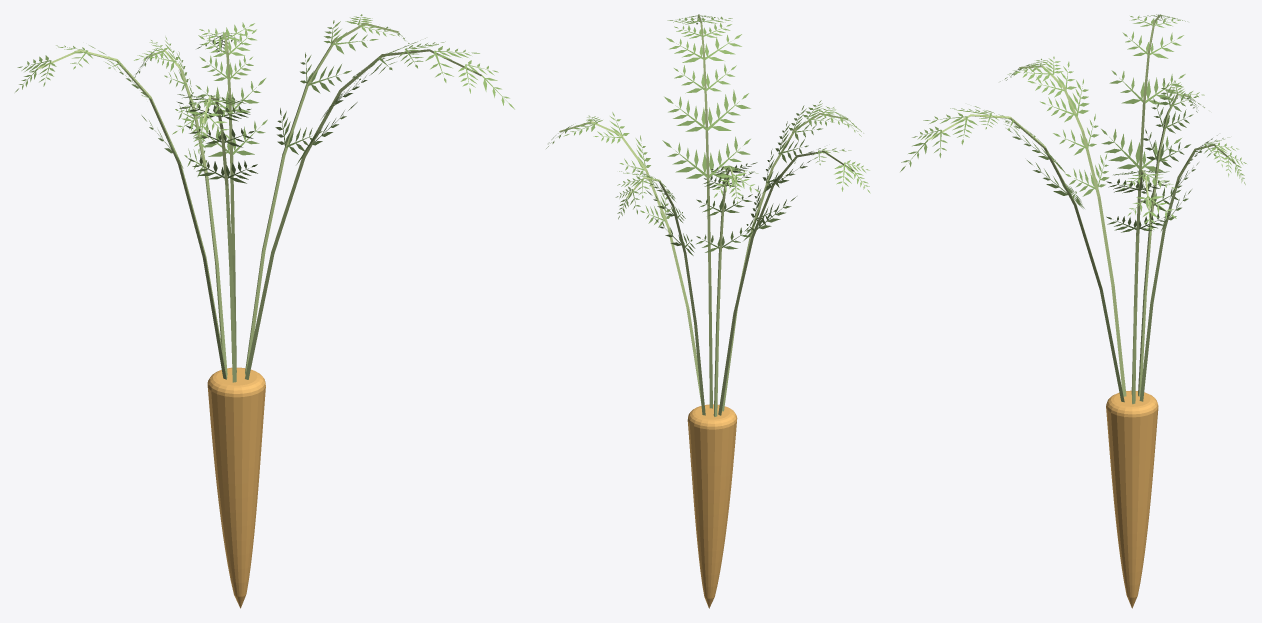
The model's file is carrot_harvest_v14.glb.
The picture shows the model from 3 angles, left to right: view 1: azimuth 30°, elevation 25°; view 2: azimuth 150°, elevation 25°; view 3: azimuth 270°, elevation 25°; orthographic projection. The views are drawn at different scales.
Visible parts, largest first — view 1: plant; view 2: plant; view 3: plant.
Part boxes in pixels (x1,y1,x2,y2): plant: (15, 14, 514, 608); plant: (546, 14, 870, 608); plant: (900, 14, 1246, 608).
Bounding box in the file's own units: 0.2743 × 0.4013 × 0.2355.
1 material, 1 textured.
